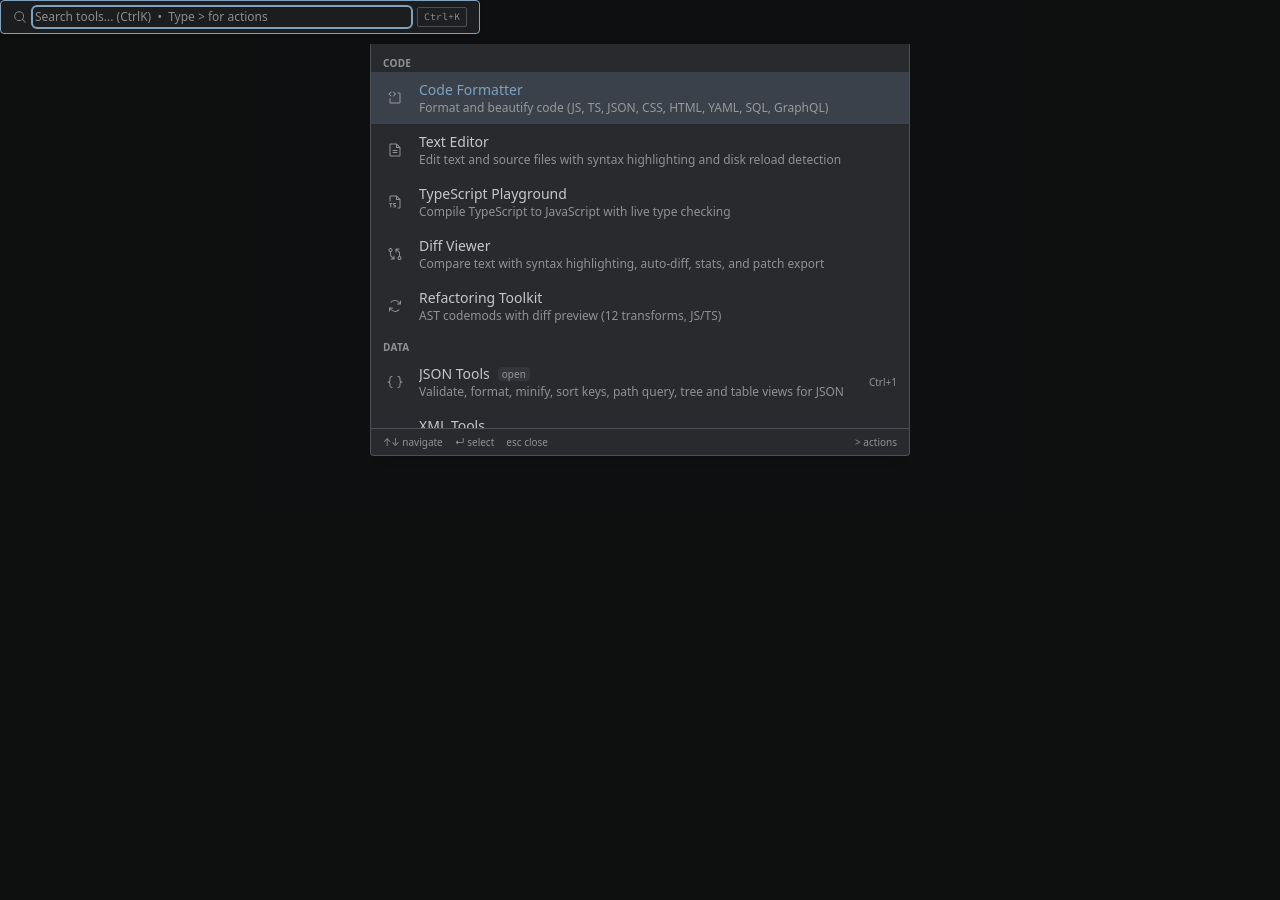
Test case: CommandPalette › shows the mod+digit tab binding on rows for tools that are open in a tab
Type "base64" into the dropdown. click: x=222, y=17
box: [35,9,409,25]
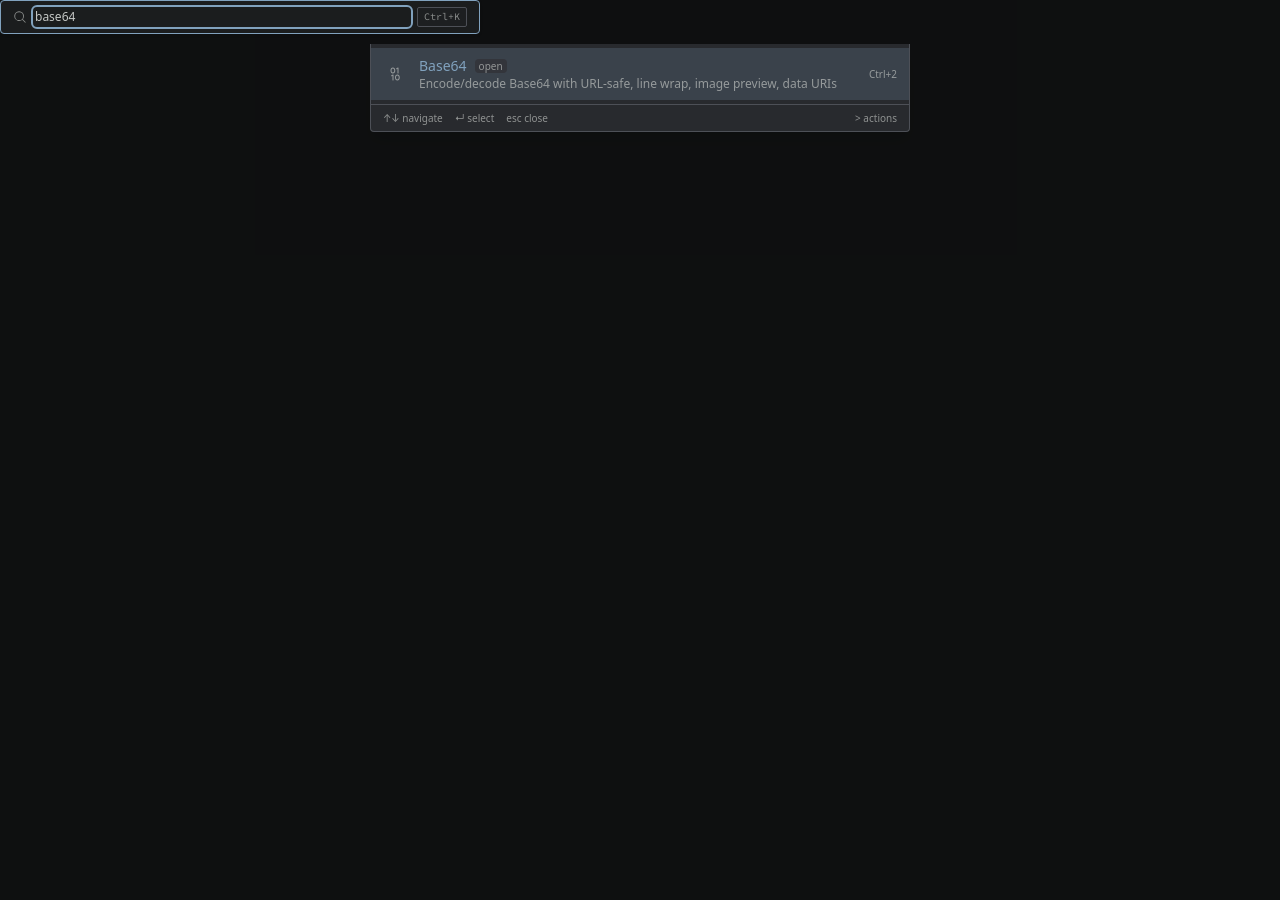
Expected: the option "Base64" shows "2", [371,48,909,100]
